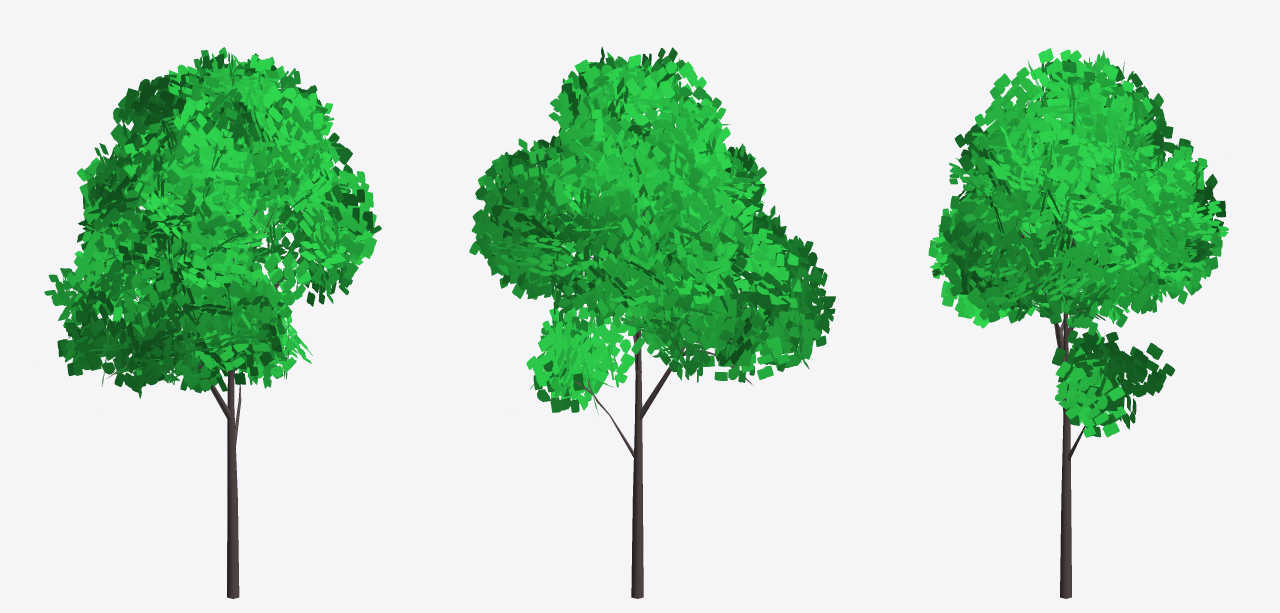
File: tree_deciduous_03.glb
The picture shows the model from 3 angles, left to right: view 1: azimuth 30°, elevation 25°; view 2: azimuth 150°, elevation 25°; view 3: azimuth 270°, elevation 25°; orthographic projection.
Visible parts, largest first — view 1: env; view 2: env; view 3: env.
Boxes of the visible parts, bbox=[...] form: env: bbox=[44, 47, 381, 598]; env: bbox=[469, 46, 835, 598]; env: bbox=[928, 48, 1228, 598].
Bounding box in the file's own units: 3.55 × 5.43 × 3.18.
1 material, 1 textured.
